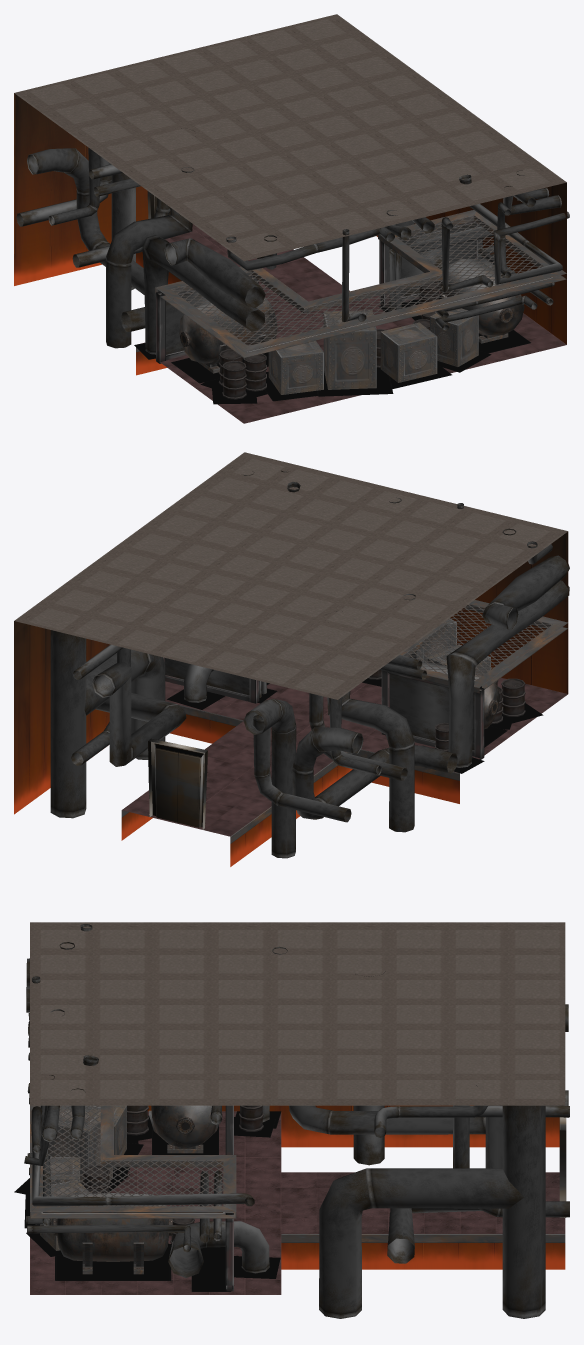
Rendered from molten_entrance.fbx.
The picture shows the model from 3 angles, top to bottom: view 1: azimuth 30°, elevation 25°; view 2: azimuth 150°, elevation 25°; view 3: azimuth 270°, elevation 25°; orthographic projection. The views are drawn at different scales.
Parts seen in each view (by area): view 1: Walls, Pipes, MetalPlatform, MetalBoxes, StoneFloor, MetalGridFloor, Boiler, Shadow, Barrel; view 2: Walls, Pipes, StoneFloor, MetalPlatform, Elevator, MetalGridFloor, Shadow, Barrel, MetalBoxes, Boiler; view 3: Walls, Pipes, StoneFloor, Boiler, MetalPlatform, Shadow, MetalGridFloor, MetalBoxes, Barrel, Elevator.
Part boxes in pixels (<box>): Walls: <box>14,14,566,344</box>; Pipes: <box>16,128,569,354</box>; MetalPlatform: <box>155,210,566,363</box>; MetalBoxes: <box>268,308,478,394</box>; StoneFloor: <box>136,224,566,423</box>; MetalGridFloor: <box>172,215,543,345</box>; Boiler: <box>179,259,524,373</box>; Shadow: <box>134,293,530,404</box>; Barrel: <box>218,281,439,399</box>; Walls: <box>14,452,568,814</box>; Pipes: <box>50,470,569,858</box>; StoneFloor: <box>121,678,567,866</box>; MetalPlatform: <box>163,600,567,759</box>; Elevator: <box>148,738,207,829</box>; MetalGridFloor: <box>403,604,551,680</box>; Shadow: <box>167,678,543,773</box>; Barrel: <box>367,669,525,751</box>; MetalBoxes: <box>409,619,490,674</box>; Boiler: <box>421,662,499,729</box>; Walls: <box>30,922,565,1147</box>; Pipes: <box>24,924,569,1318</box>; StoneFloor: <box>30,1111,565,1294</box>; Boiler: <box>53,1105,218,1274</box>; MetalPlatform: <box>30,1105,236,1291</box>; Shadow: <box>14,1111,281,1291</box>; MetalGridFloor: <box>43,1105,223,1206</box>; MetalBoxes: <box>40,1105,126,1250</box>; Barrel: <box>82,1105,263,1244</box>; Elevator: <box>559,1117,566,1217</box>.
Size of the model in its own units: 2387 by 1294 by 2816.
